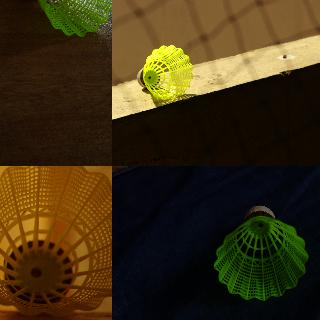shuttlecock: (0, 166, 111, 317), (213, 206, 307, 300), (17, 0, 111, 36), (137, 45, 193, 99)
